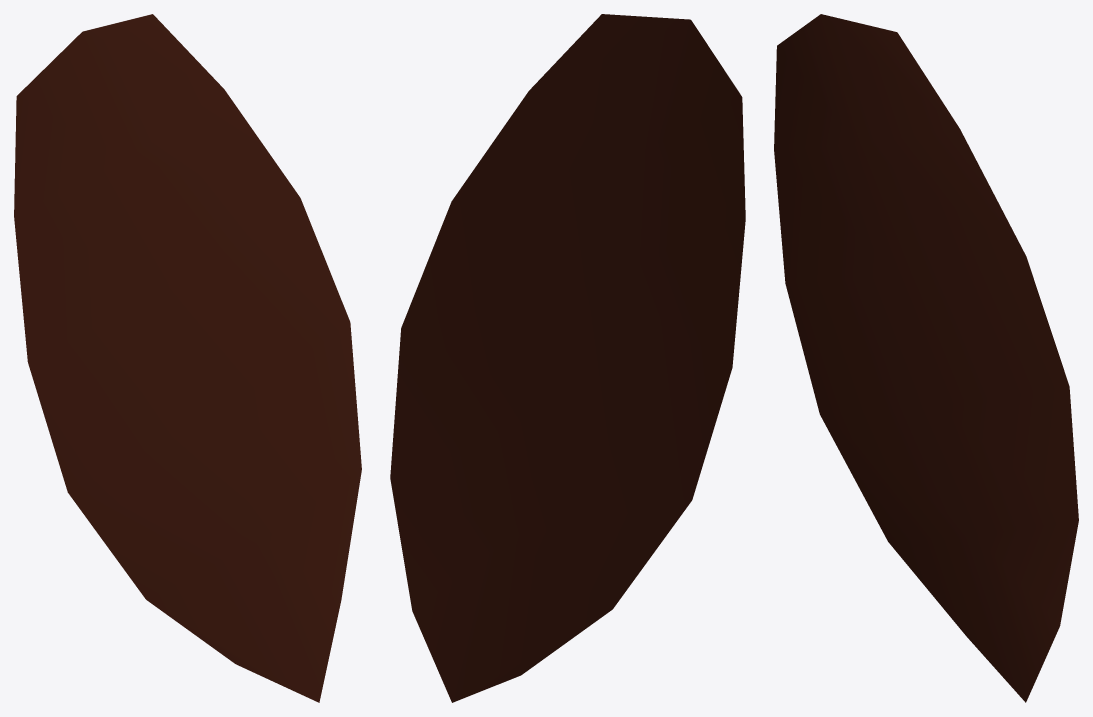
The model's file is hen_feather_flight_tertiary_021.obj.
3 views of the same model, side by side, from view 1: azimuth 30°, elevation 25°; view 2: azimuth 150°, elevation 25°; view 3: azimuth 330°, elevation 25° (orthographic). The views are drawn at different scales.
Parts seen in each view (by area): view 1: feather_flight_tertiary_021; view 2: feather_flight_tertiary_021; view 3: feather_flight_tertiary_021.
Boxes of the visible parts, bbox=[...] form: feather_flight_tertiary_021: bbox=[14, 14, 361, 702]; feather_flight_tertiary_021: bbox=[390, 14, 745, 702]; feather_flight_tertiary_021: bbox=[774, 14, 1078, 702].
Bounding box in the file's own units: 0.013 × 0.0259 × 0.000641.
